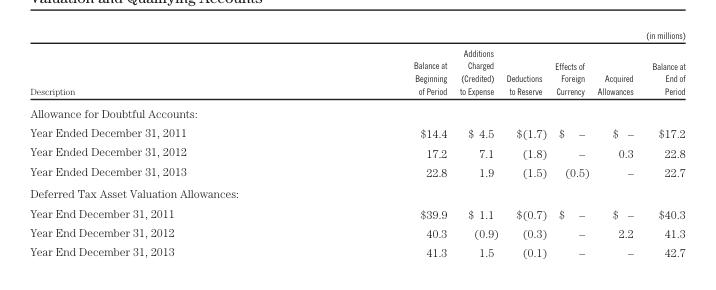table: (29, 29, 684, 258)
table column: (29, 29, 299, 258), (299, 29, 452, 258), (452, 29, 502, 258), (502, 29, 550, 258), (592, 29, 639, 258), (639, 29, 684, 258), (550, 29, 592, 258)
table column header: (29, 29, 684, 101)
table projected row header: (29, 101, 684, 122), (29, 182, 684, 202)
table row: (29, 29, 684, 101), (29, 101, 684, 122), (29, 161, 684, 182), (29, 122, 684, 142), (29, 182, 684, 202), (29, 202, 684, 222), (29, 142, 684, 161), (29, 222, 684, 241), (29, 241, 684, 258)
